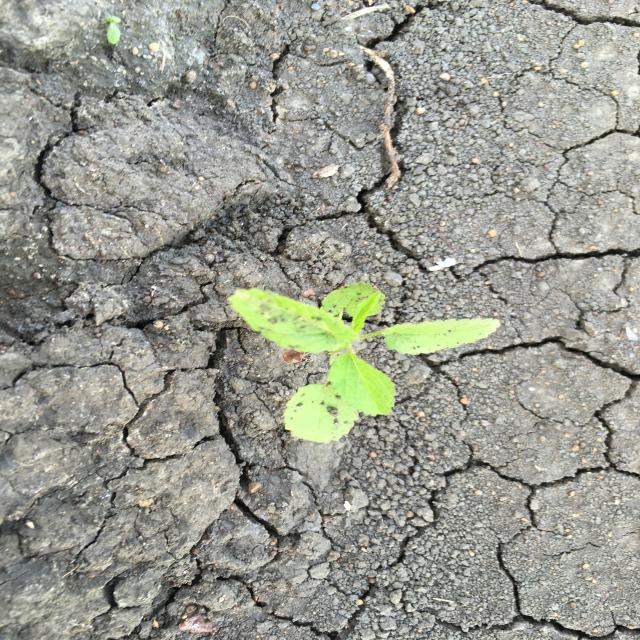PricklySida: (224, 279, 503, 446)
